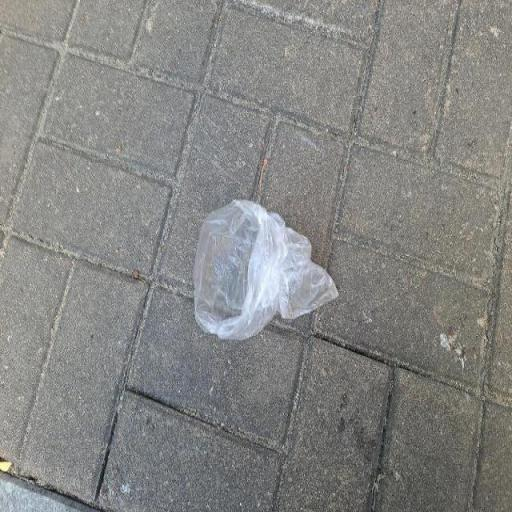plastic-bag: (191, 197, 340, 344)
